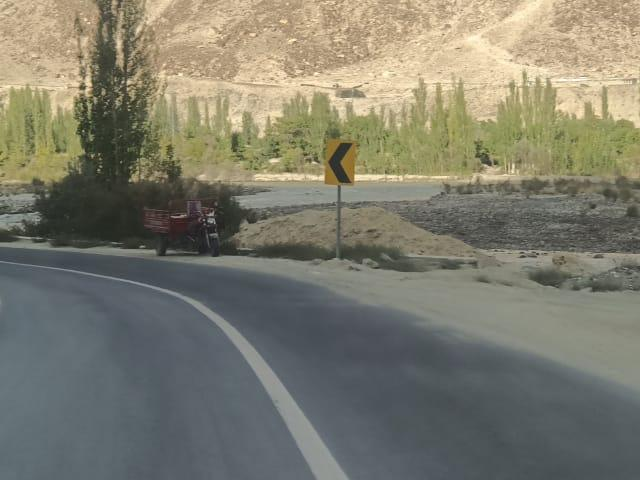left_turn: (0, 197, 263, 338), (325, 138, 361, 186)
